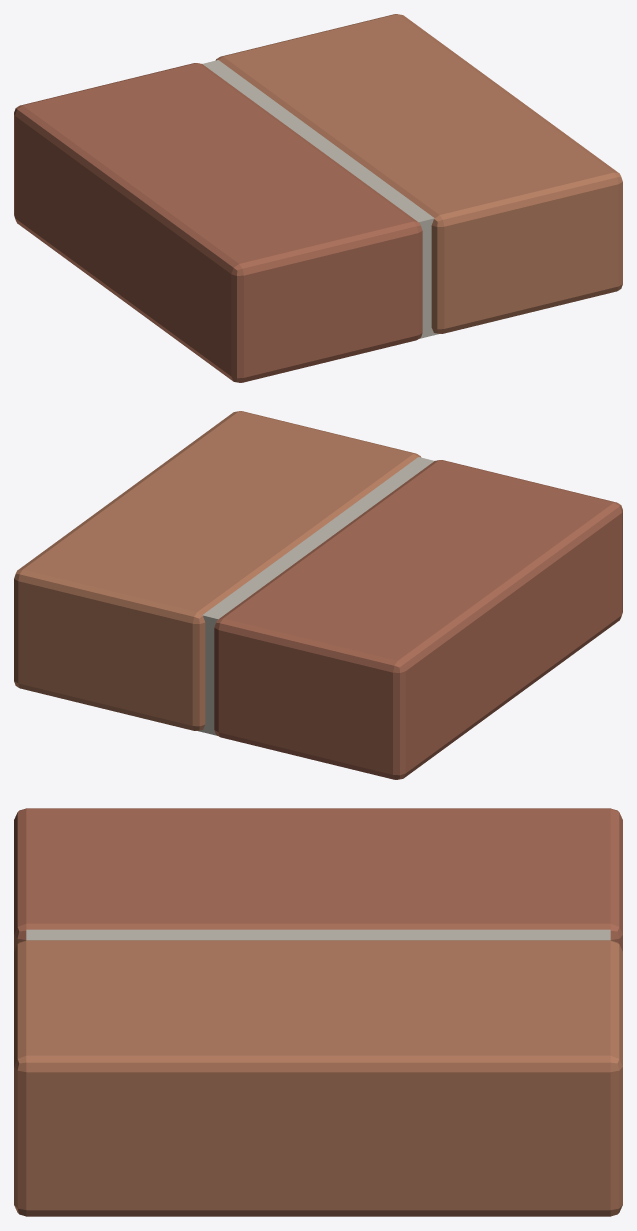
Rendered from wall_brick_low.glb.
The picture shows the model from 3 angles, top to bottom: view 1: azimuth 30°, elevation 25°; view 2: azimuth 150°, elevation 25°; view 3: azimuth 270°, elevation 25°; orthographic projection. The views are drawn at different scales.
Parts seen in each view (by area): view 1: wall_brick_low; view 2: wall_brick_low; view 3: wall_brick_low.
Part boxes in pixels (left/top/right/bottom): wall_brick_low: left=14, top=14, right=622, bottom=382; wall_brick_low: left=14, top=411, right=622, bottom=779; wall_brick_low: left=14, top=808, right=622, bottom=1216.
Size of the model in its own units: 0.98 by 0.285 by 0.98.
